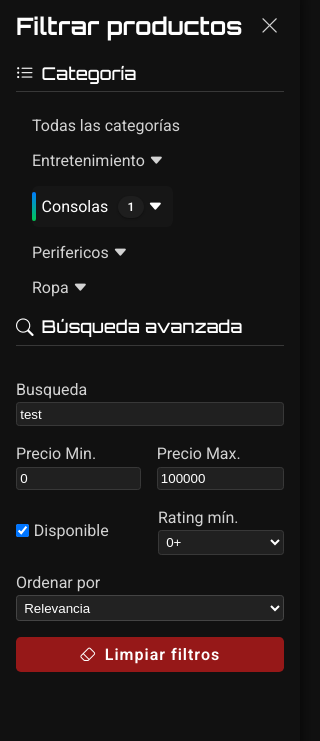
FiltrosComponent › Debería mostrar las subcategorías cuando se selecciona una categoría
Hacer clic en Consolas para expandir subcategorias
Step 1. Click the text "Consolas" → (75, 207), box [42,197,108,216]
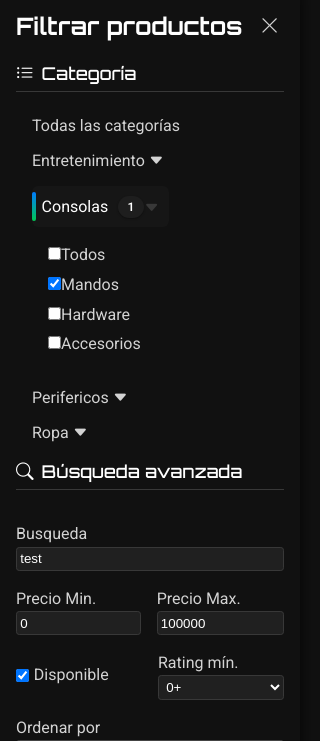
expect the text "Mandos" is shown: met, box [48,275,119,294]
expect the text "Hardware" is shown: met, box [48,305,130,324]
expect the text "Accesorios" is shown: met, box [48,334,141,353]
